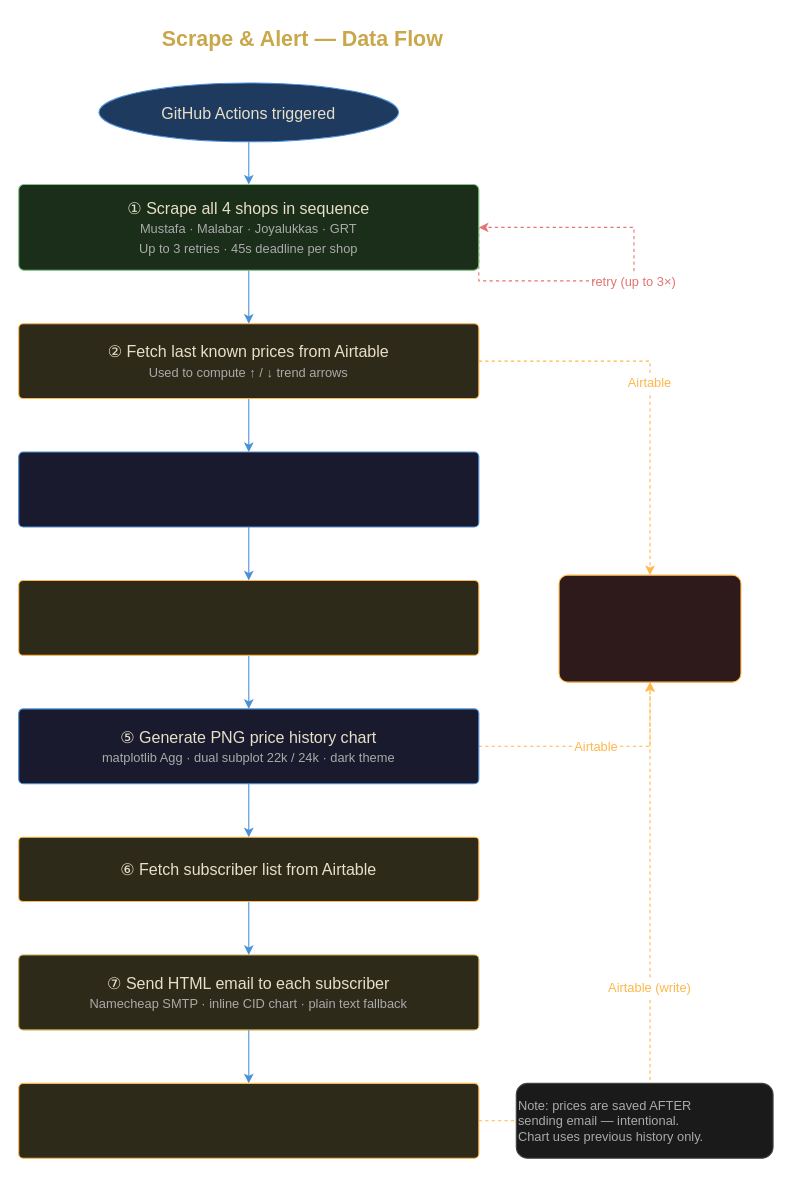
Image size: 792x1177. Some labels were removed from this diagram. Here are the shapes that lost their labels. From the top down, the centre of each, then its label:
At [248,489]: "③ Build email body One section per shop · OK or FAILED fallback with old rate".
At [248,617]: "④ Fetch full price history from Airtable All records across all shops and dates".
At [649,628]: "Airtable subscribers prices visitors · otps".
At [248,1120]: "⑧ Save scraped prices to Airtable Only for shops where status = OK".
